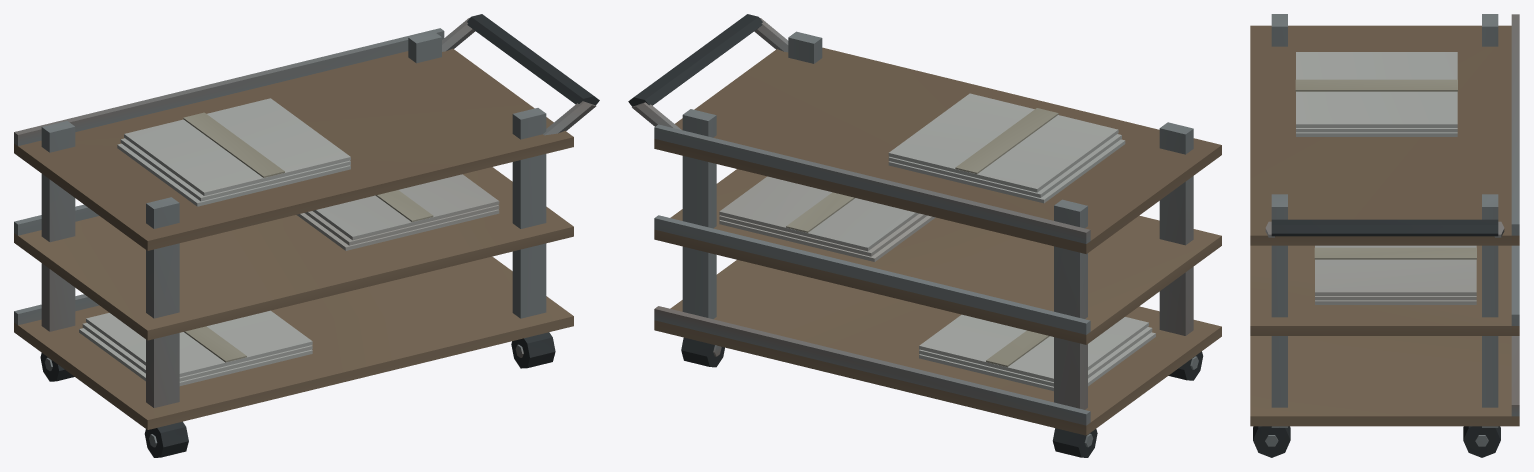
File: paper_cart.glb
3 views of the same model, side by side, from view 1: azimuth 30°, elevation 25°; view 2: azimuth 150°, elevation 25°; view 3: azimuth 270°, elevation 25° (orthographic).
Visible parts, largest first — view 1: paper_cart; view 2: paper_cart; view 3: paper_cart.
Part boxes in pixels (x1=…): paper_cart: x1=14, y1=14, x2=599, y2=457; paper_cart: x1=628, y1=14, x2=1221, y2=457; paper_cart: x1=1250, y1=14, x2=1519, y2=457.
Bounding box in the file's own units: 2 × 1.05 × 1.
